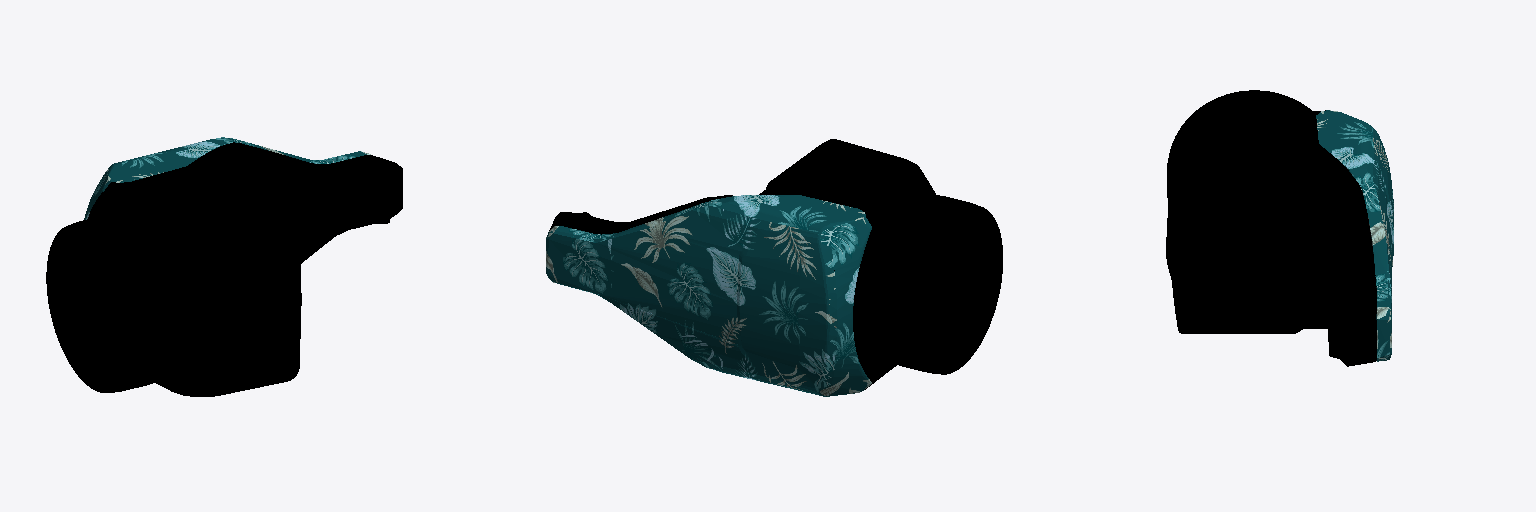
3 views of the same model, side by side, from view 1: azimuth 30°, elevation 25°; view 2: azimuth 150°, elevation 25°; view 3: azimuth 270°, elevation 25° (orthographic).
Parts seen in each view (by area): view 1: arm0.link_wr1; view 2: arm0.link_wr1; view 3: arm0.link_wr1.
Boxes of the visible parts, x1=… form: arm0.link_wr1: x1=46, y1=137, x2=402, y2=396; arm0.link_wr1: x1=546, y1=139, x2=1002, y2=396; arm0.link_wr1: x1=1166, y1=90, x2=1393, y2=366.
Bounding box in the file's own units: 0.1802 × 0.0839 × 0.099.
2 materials, 1 textured.